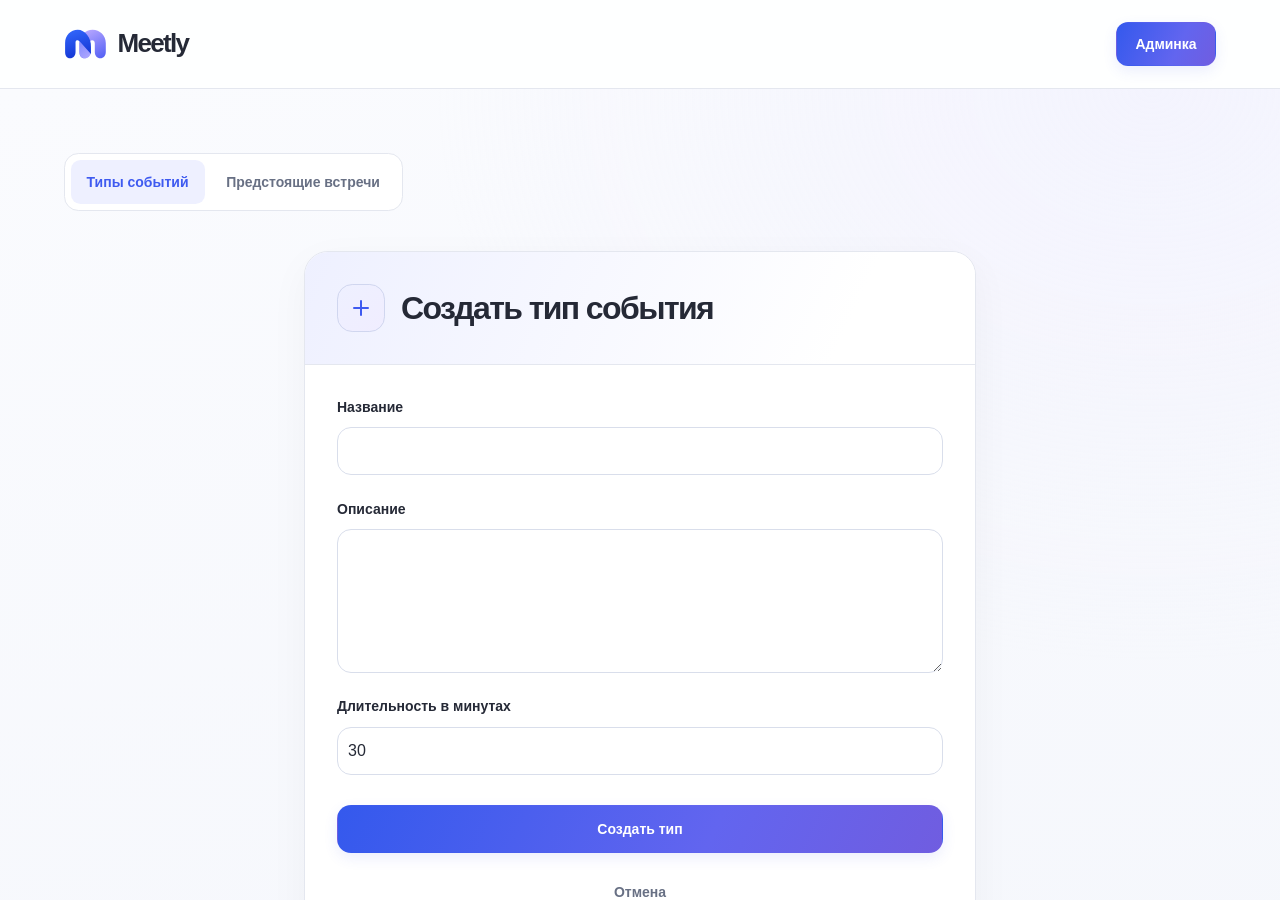
Test case: creation returns to admin with success and newly loaded type
This screenshot has width=1280, height=900.
Type "Разговор" into the field labelled "Название". click: (640, 451)
box: [337,427,943,475]
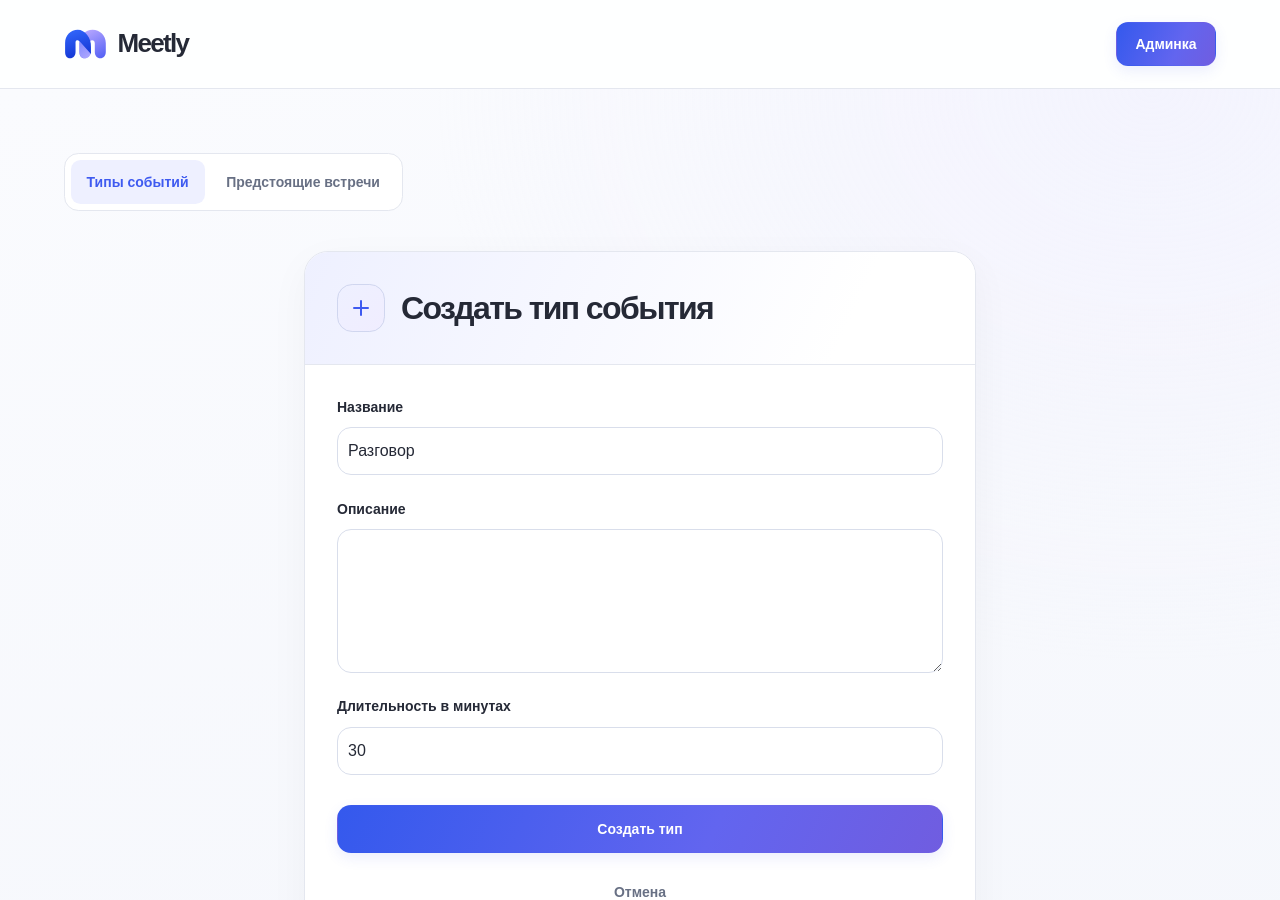
Type "Описание" into the text box labelled "Описание". click: (640, 601)
box: [337,529,943,673]
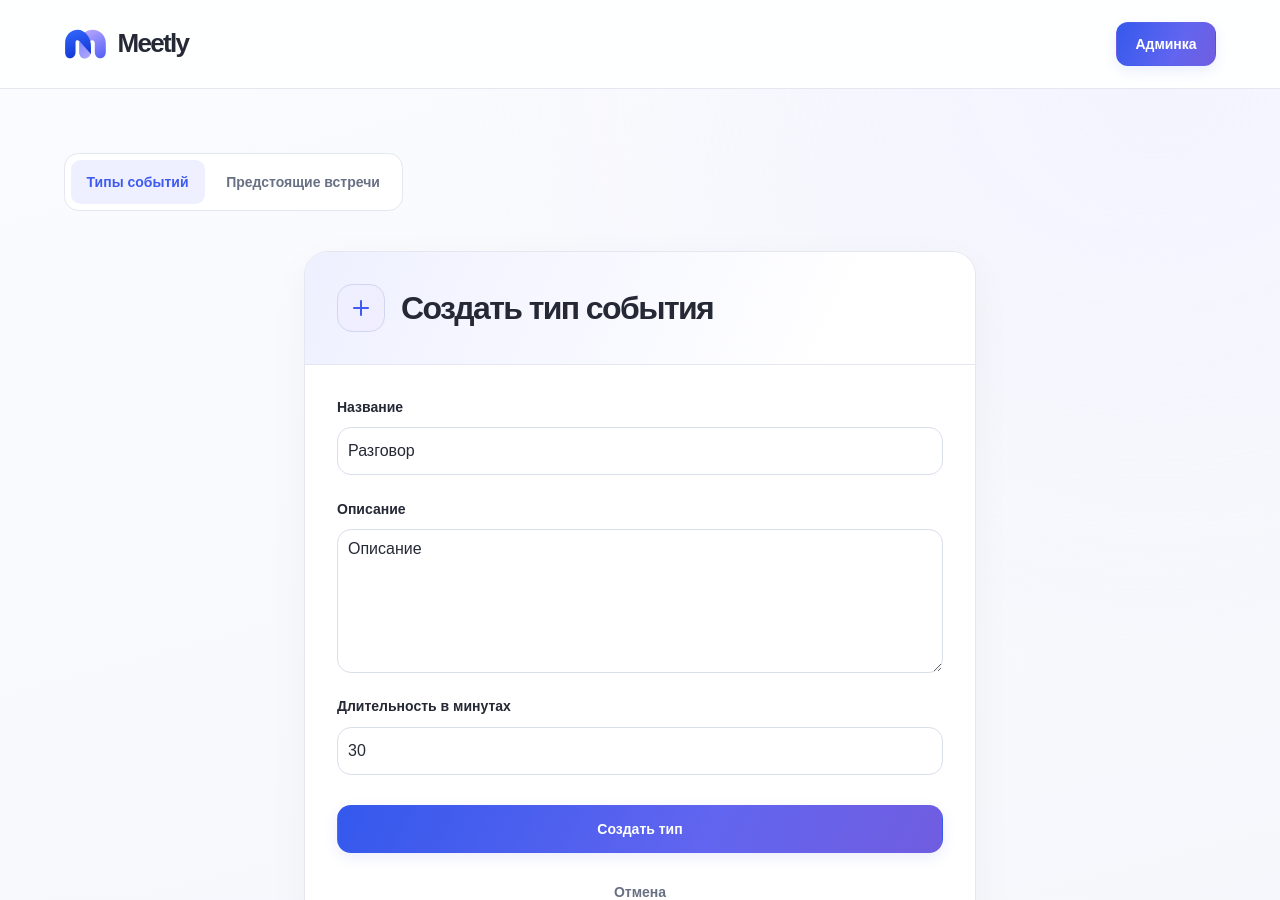
Replace the text in the number field labelled "Длительность в минутах" with "480". click: (640, 750)
box: [337,726,943,774]
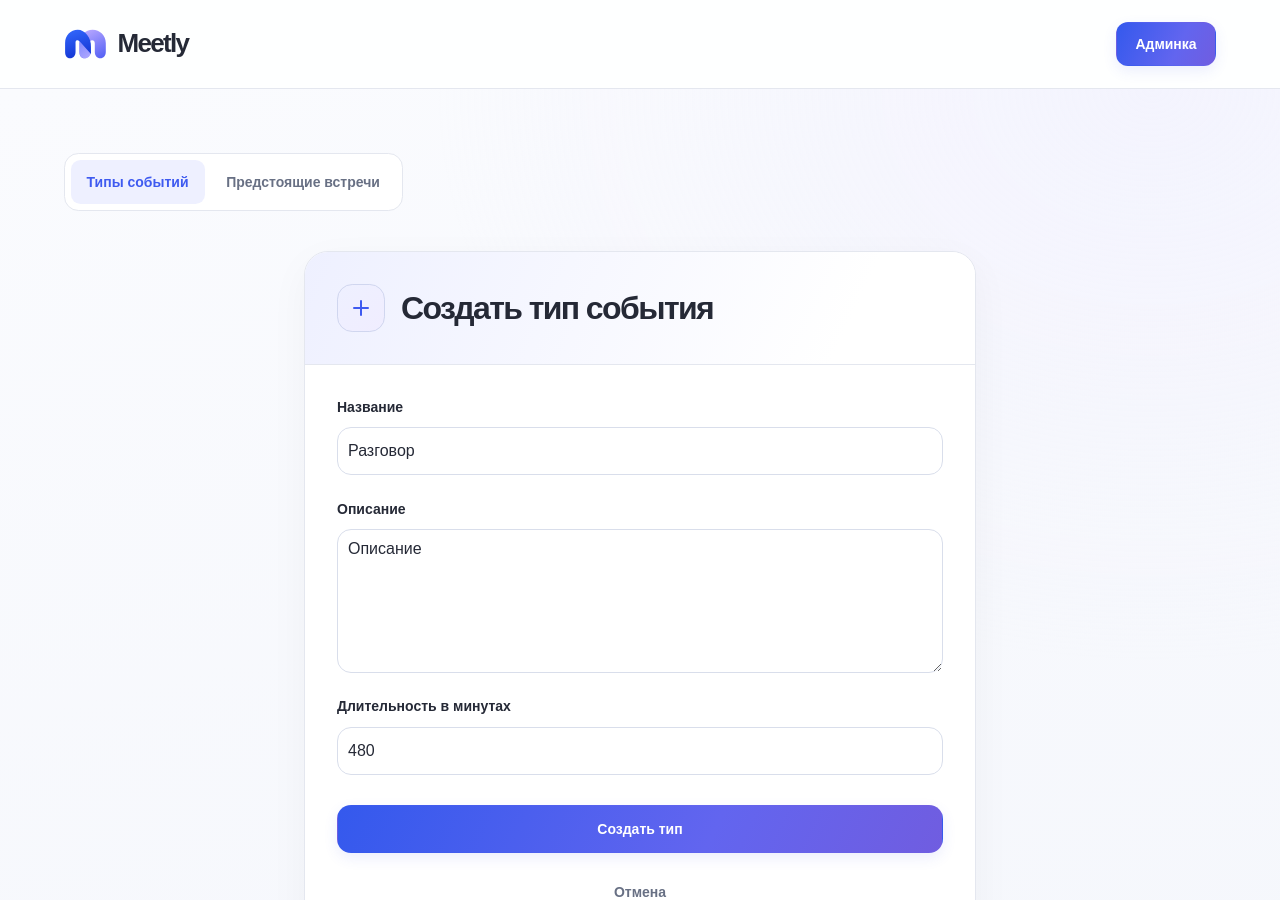
Click the button "Создать тип". click: (640, 829)
box: [337,805,943,853]
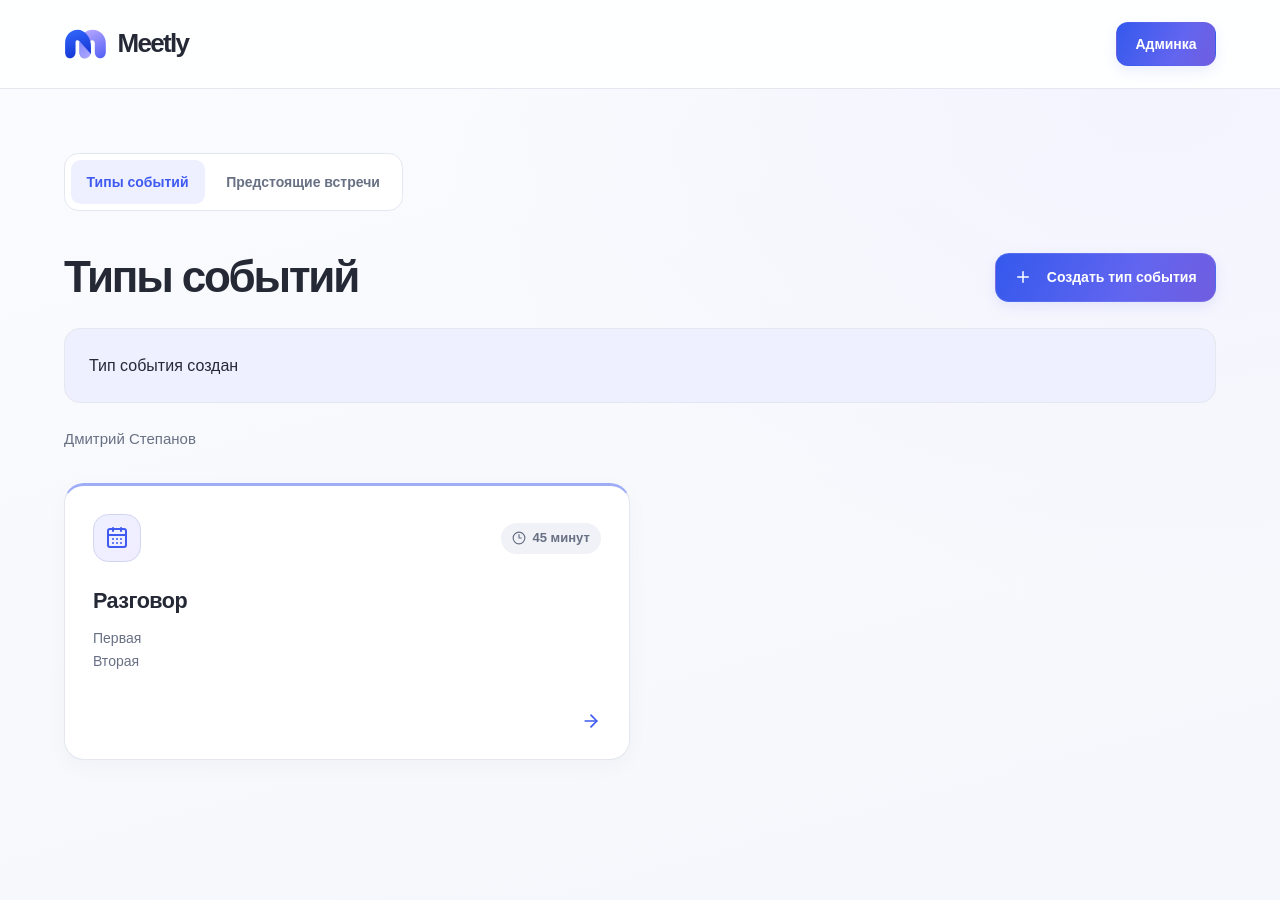
Now the text "Тип события создан" is shown, box [64,328,1216,403]
Now the link "45 минут Разговор Первая Вторая" is shown, box [64,483,630,760]
